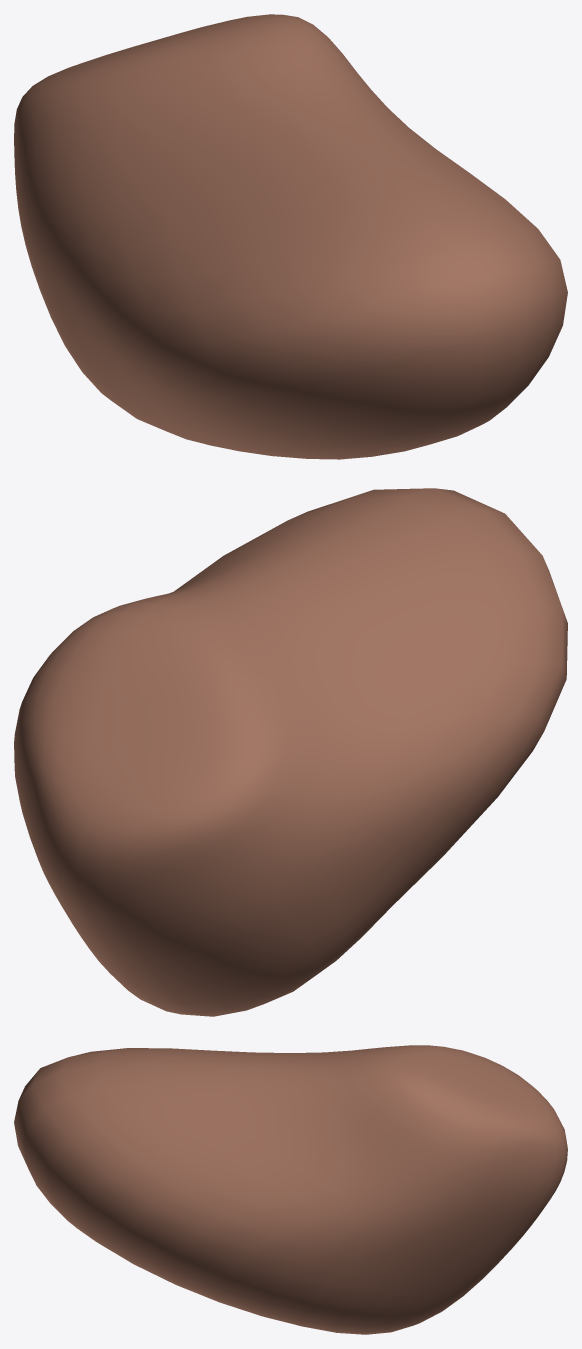
The model's file is SandHammer.fbx.
3 views of the same model, one above another, from view 1: azimuth 30°, elevation 25°; view 2: azimuth 150°, elevation 25°; view 3: azimuth 270°, elevation 25° (orthographic). The views are drawn at different scales.
Parts seen in each view (by area): view 1: SandHammer; view 2: SandHammer; view 3: SandHammer.
Boxes of the visible parts, left/top/right/bottom form: SandHammer: left=14, top=14, right=567, bottom=459; SandHammer: left=14, top=488, right=567, bottom=1016; SandHammer: left=14, top=1045, right=567, bottom=1334.
Bounding box in the file's own units: 99.12 × 92.83 × 170.
